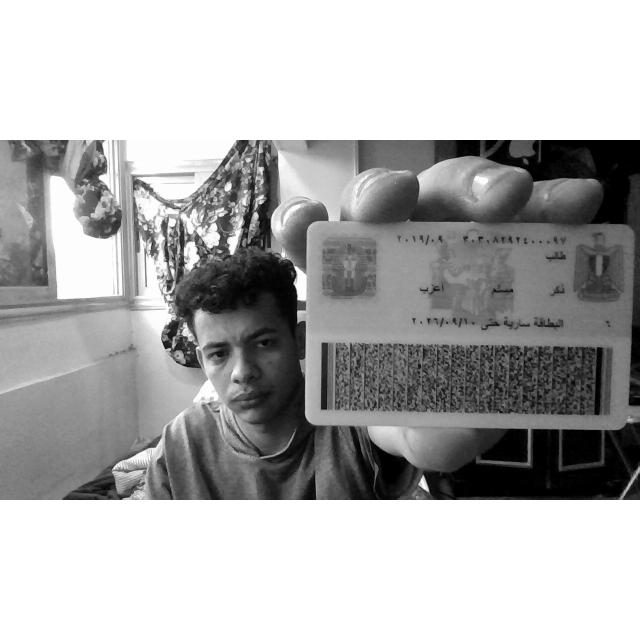id_card: (306, 222, 634, 430)
